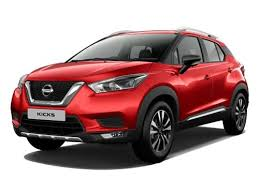Nissan: (12, 34, 241, 149)
